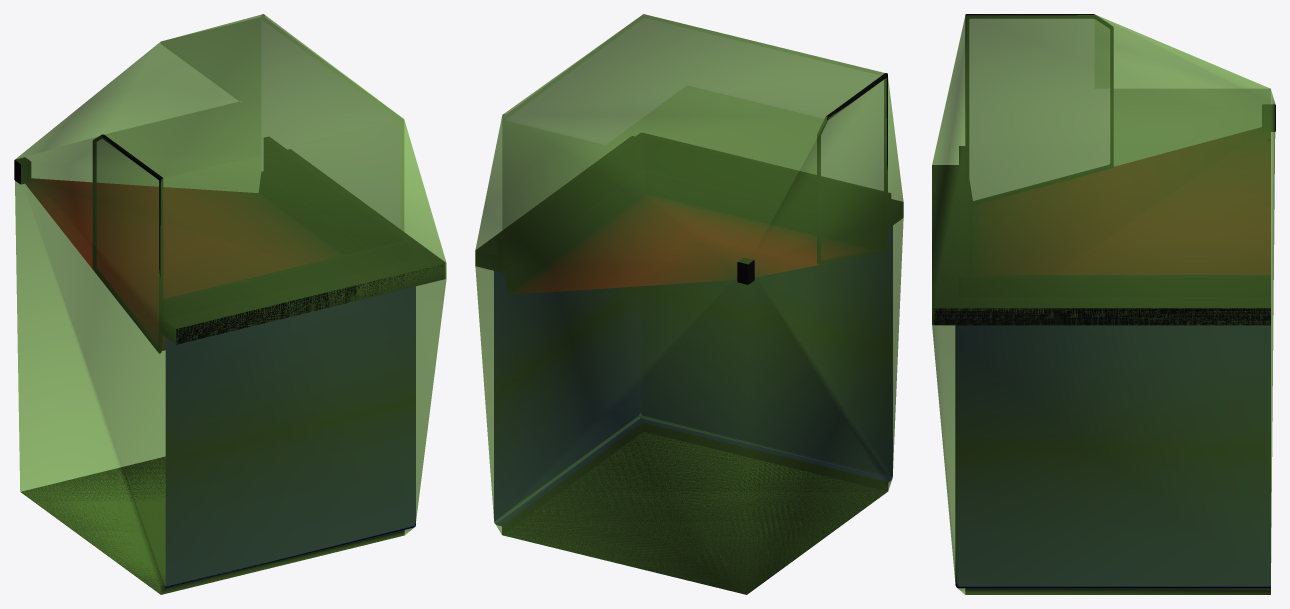
Rendered from M_md_Stall5_90cnr_01.fbx.
The picture shows the model from 3 angles, left to right: view 1: azimuth 30°, elevation 25°; view 2: azimuth 150°, elevation 25°; view 3: azimuth 270°, elevation 25°; orthographic projection. The views are drawn at different scales.
Parts seen in each view (by area): view 1: M_md_Stall5_90cnr_01_col_01, M_md_Stall5_90cnr_01_LOD0; view 2: M_md_Stall5_90cnr_01_col_01, M_md_Stall5_90cnr_01_LOD0; view 3: M_md_Stall5_90cnr_01_col_01, M_md_Stall5_90cnr_01_LOD0.
Boxes of the visible parts, x1=… form: M_md_Stall5_90cnr_01_col_01: x1=15, y1=14, x2=446, y2=594; M_md_Stall5_90cnr_01_LOD0: x1=14, y1=14, x2=445, y2=594; M_md_Stall5_90cnr_01_col_01: x1=475, y1=14, x2=903, y2=594; M_md_Stall5_90cnr_01_LOD0: x1=475, y1=14, x2=903, y2=594; M_md_Stall5_90cnr_01_col_01: x1=932, y1=14, x2=1275, y2=594; M_md_Stall5_90cnr_01_LOD0: x1=932, y1=14, x2=1275, y2=594.
Size of what is drawn, in the model's own units: 104 by 151 by 104.
